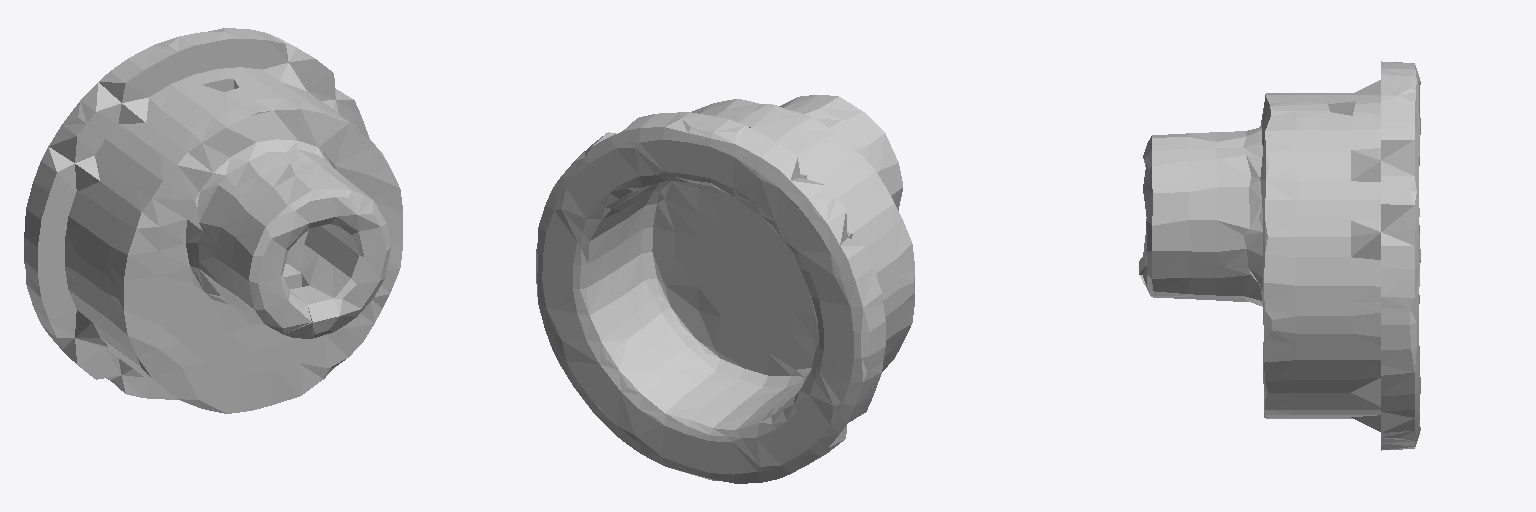
3 renders of one model, left to right at view 1: azimuth 30°, elevation 25°; view 2: azimuth 150°, elevation 25°; view 3: azimuth 270°, elevation 25°, orthographic.
Visible parts, largest first — view 1: Part__Feature001.001; view 2: Part__Feature001.001; view 3: Part__Feature001.001.
Part boxes in pixels (left/top/right/bottom): Part__Feature001.001: left=24, top=28, right=402, bottom=413; Part__Feature001.001: left=536, top=95, right=914, bottom=483; Part__Feature001.001: left=1139, top=61, right=1420, bottom=450.
Bounding box in the file's own units: 3.02 × 3.03 × 2.19.